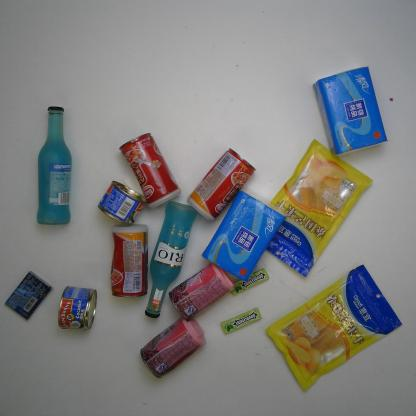Alcohol: (144, 202, 197, 316), (35, 106, 73, 226)
Canned Food: (186, 148, 256, 223), (118, 130, 183, 209), (140, 317, 205, 379), (168, 262, 233, 322), (108, 221, 151, 298), (99, 180, 149, 227), (56, 285, 98, 332)
Dried Fruit: (267, 264, 402, 391), (257, 139, 373, 277)
Gum: (7, 271, 52, 319), (220, 307, 263, 334), (232, 268, 270, 296)
Tissue: (201, 191, 286, 282), (314, 65, 387, 155)
